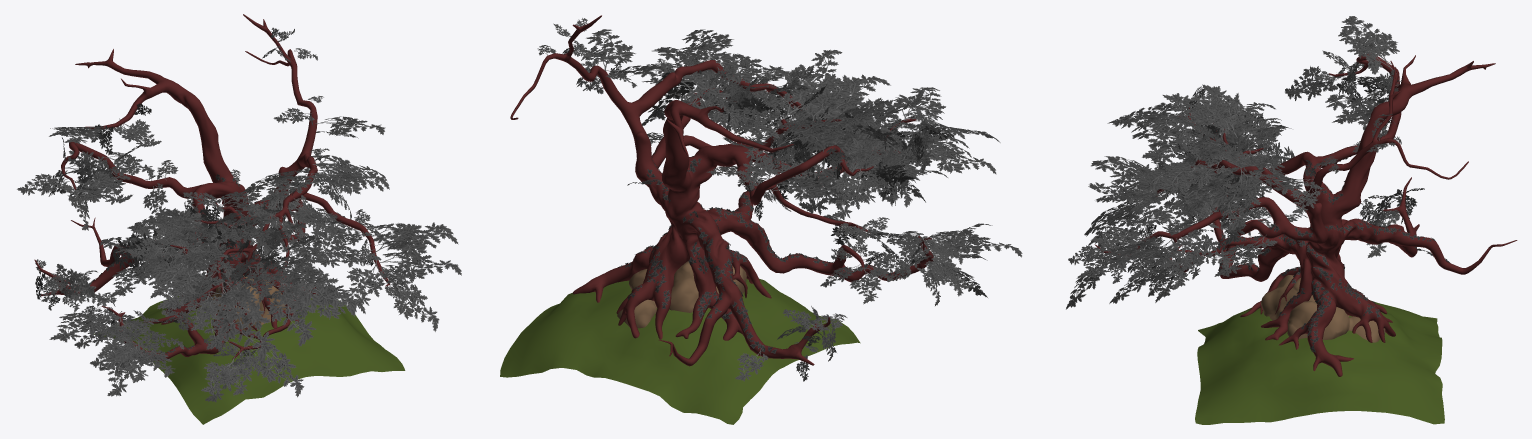
File: SM_tree_LP_1UV.FBX
3 views of the same model, side by side, from view 1: azimuth 30°, elevation 25°; view 2: azimuth 150°, elevation 25°; view 3: azimuth 270°, elevation 25° (orthographic). The views are drawn at different scales.
Visible parts, largest first — view 1: SM_tree_LP_1UV; view 2: SM_tree_LP_1UV; view 3: SM_tree_LP_1UV.
Part boxes in pixels (box(x1,y1,x2,y2)): SM_tree_LP_1UV: box(17, 14, 461, 424); SM_tree_LP_1UV: box(500, 15, 1022, 424); SM_tree_LP_1UV: box(1066, 16, 1517, 424).
Size of the model in its own units: 1562 by 1218 by 1513.
